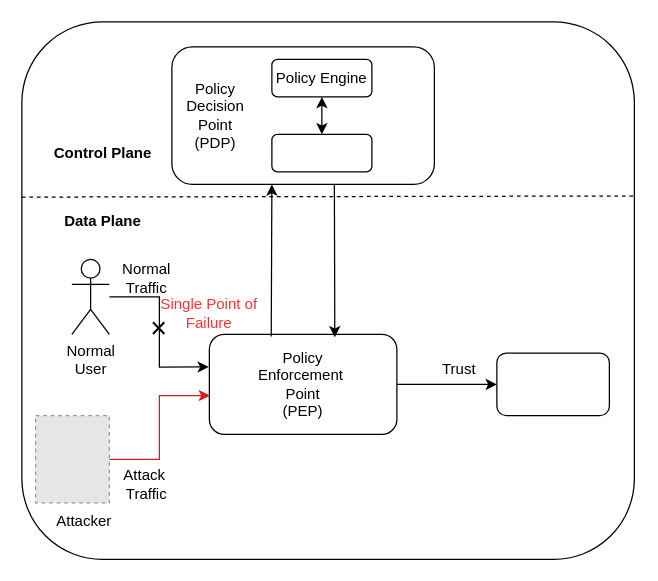
Some shapes in this 658 by 581 pixel diagram are drawn without their labels. Grey dashed boxes stand in for pictures. The shapes that lost their labels are listed below. From the top down, each one's box as (x1, y1, x2, y2) in pixels, then its label:
(271, 133, 372, 172): Policy Administrator
(496, 352, 609, 416): Enterprise Resource
